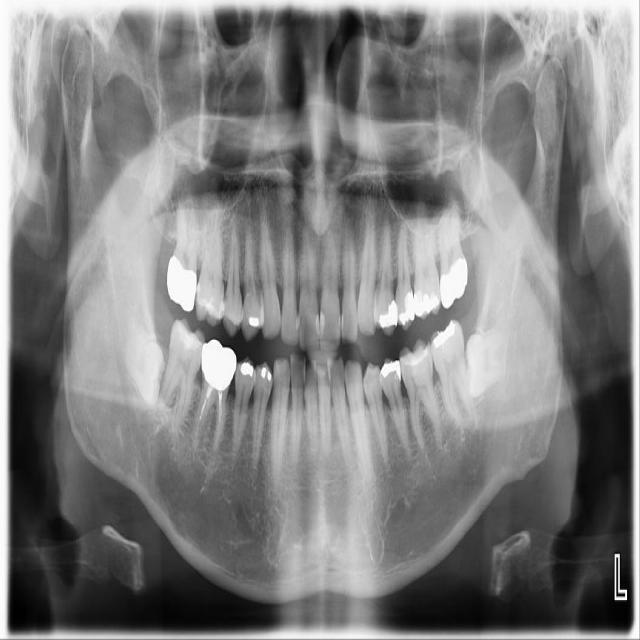52: (416, 315, 477, 375), (156, 312, 218, 371), (395, 336, 440, 391), (196, 338, 240, 394), (407, 268, 448, 321), (166, 256, 197, 313), (439, 255, 469, 311), (296, 287, 321, 352), (194, 278, 226, 326), (319, 288, 343, 352), (373, 287, 398, 339), (279, 292, 301, 347), (241, 291, 265, 339), (233, 356, 257, 398), (251, 360, 275, 401), (341, 289, 358, 344), (394, 286, 415, 330), (380, 358, 401, 394)
73: (190, 372, 231, 459), (616, 600, 628, 614)
BioHorizons Implant: (434, 188, 470, 310)
Biomet 3i Implant: (462, 331, 508, 399)
Blue Sky Bio Implant: (426, 317, 478, 429)
Caries: (165, 183, 202, 313)
Implant: (152, 315, 211, 437)
Keystone Dental Implant: (107, 314, 184, 410)
